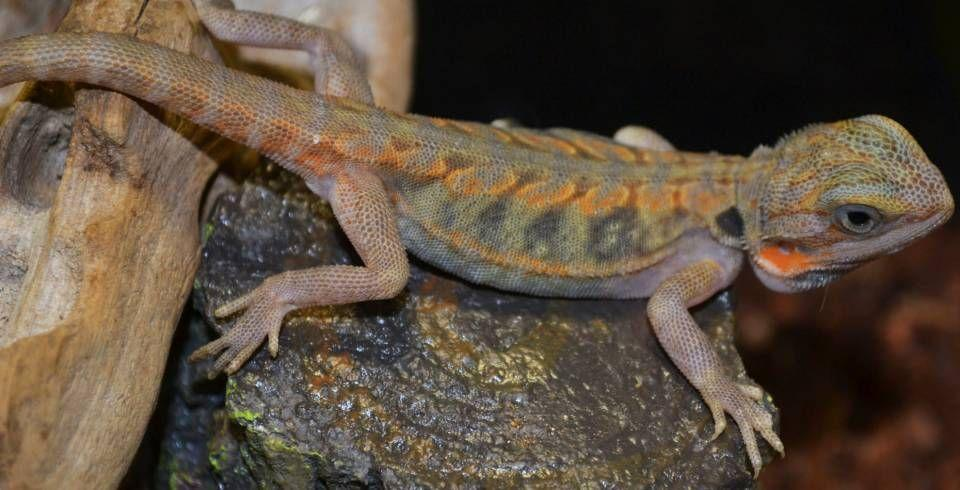bearded: (1, 34, 956, 477)
